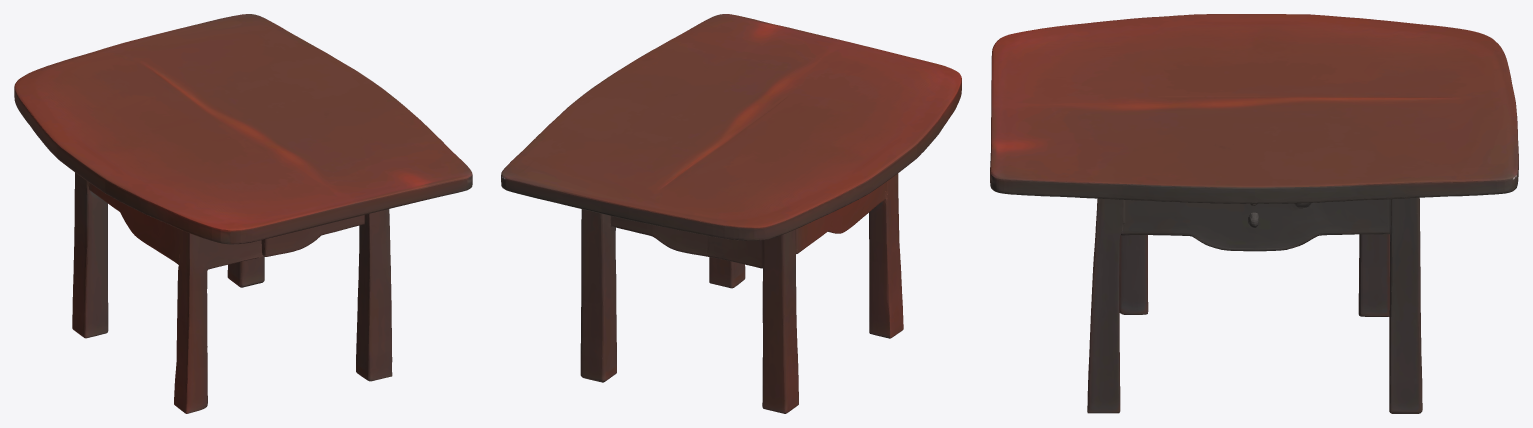
The picture shows the model from 3 angles, left to right: view 1: azimuth 30°, elevation 25°; view 2: azimuth 150°, elevation 25°; view 3: azimuth 270°, elevation 25°; orthographic projection. The views are drawn at different scales.
Parts seen in each view (by area): view 1: wooden_patterned_table.obj; view 2: wooden_patterned_table.obj; view 3: wooden_patterned_table.obj.
Part boxes in pixels (x1,y1,x2,y2): wooden_patterned_table.obj: (14, 14, 472, 413); wooden_patterned_table.obj: (501, 14, 961, 413); wooden_patterned_table.obj: (990, 14, 1518, 413).
Bounding box in the file's own units: 0.9332 × 0.6598 × 1.2.
Materials: 1 (1 with a texture image).
